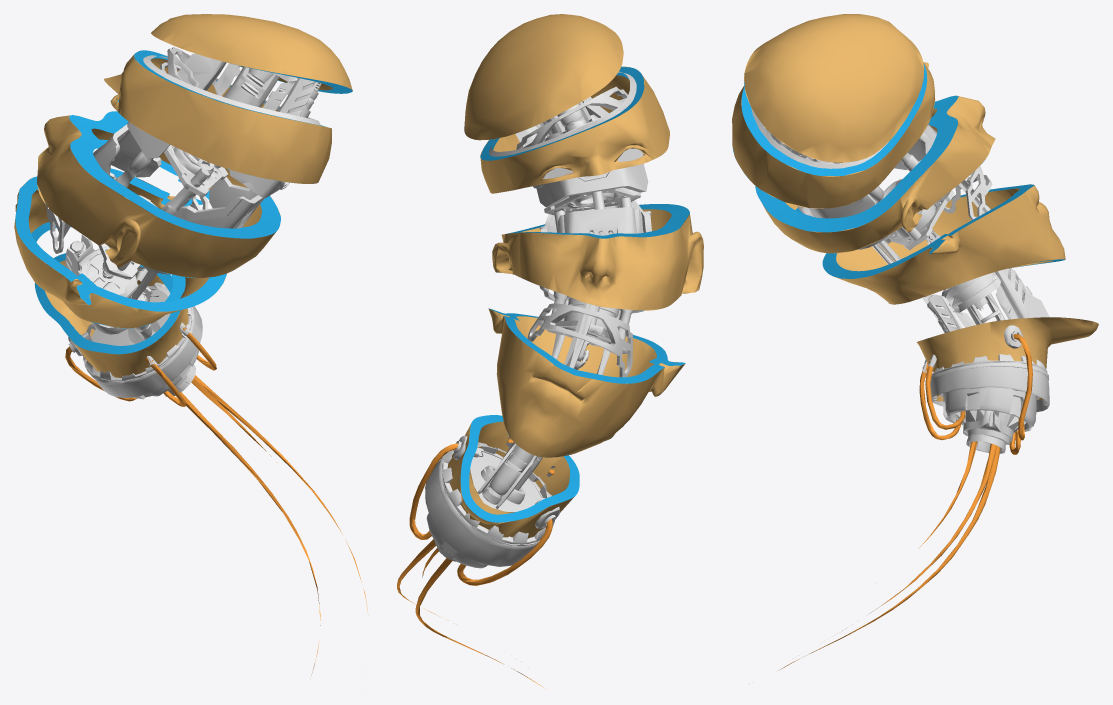
The model's file is head.glb.
3 views of the same model, side by side, from view 1: azimuth 30°, elevation 25°; view 2: azimuth 150°, elevation 25°; view 3: azimuth 270°, elevation 25° (orthographic). The views are drawn at different scales.
Bounding box in the file's own units: 3.76 × 8.93 × 4.72.
